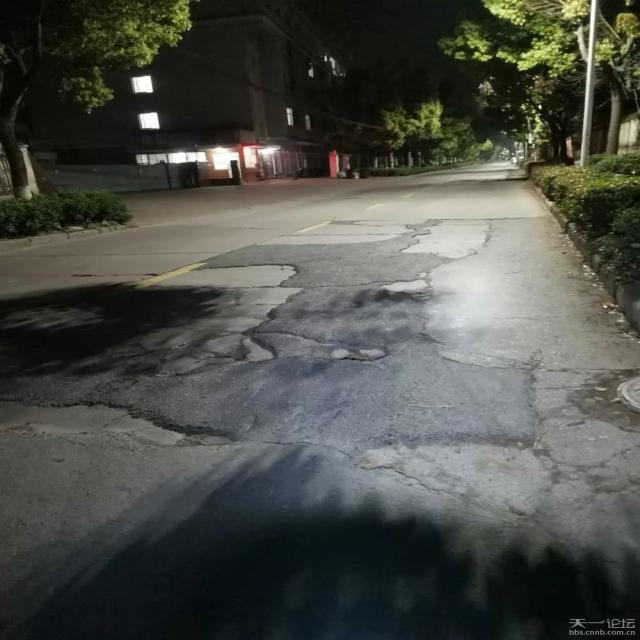Pothole: (372, 433, 576, 522), (8, 400, 230, 456), (132, 331, 395, 378), (406, 217, 491, 264), (383, 271, 435, 299)
